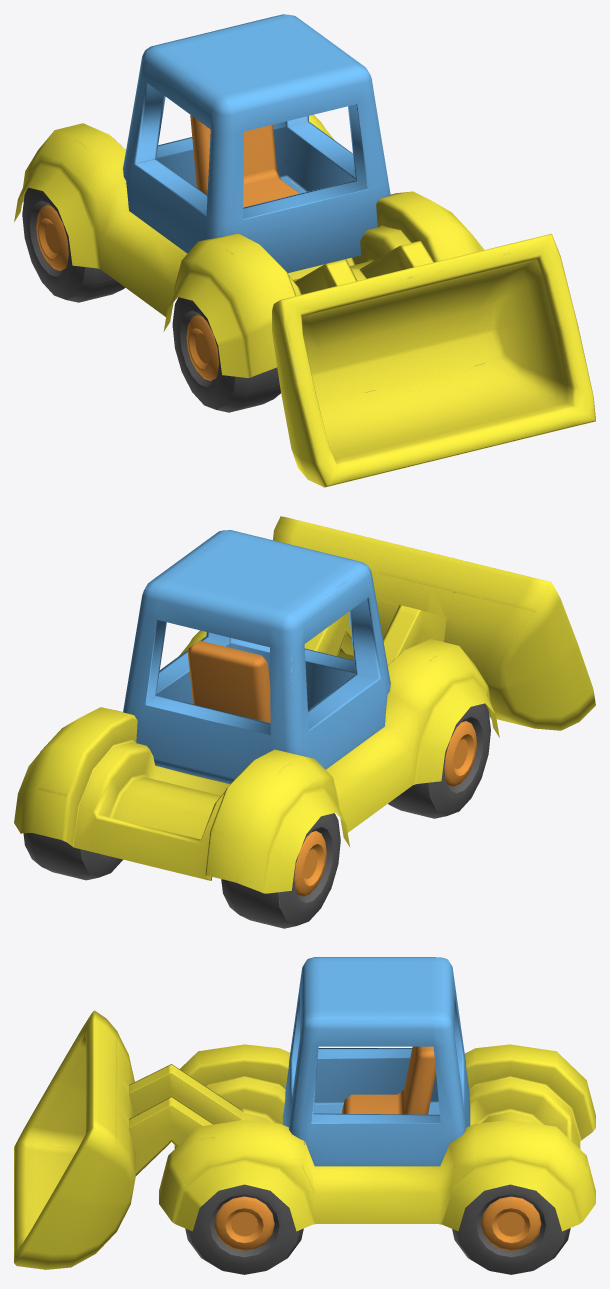
The model's file is bulldozer.fbx.
3 renders of one model, top to bottom at view 1: azimuth 30°, elevation 25°; view 2: azimuth 150°, elevation 25°; view 3: azimuth 270°, elevation 25°, orthographic. The views are drawn at different scales.
Visible parts, largest first — view 1: polySurface1, polySurface2, polySurface9, polySurface3; view 2: polySurface1, polySurface2, polySurface9, polySurface3; view 3: polySurface1, polySurface2, polySurface9, polySurface3.
Part boxes in pixels (<box>): polySurface1: <box>14,114,595,487</box>; polySurface2: <box>123,14,390,272</box>; polySurface9: <box>22,187,280,412</box>; polySurface3: <box>190,115,299,207</box>; polySurface1: <box>14,516,595,893</box>; polySurface2: <box>123,530,390,783</box>; polySurface9: <box>23,703,490,928</box>; polySurface3: <box>187,640,270,722</box>; polySurface1: <box>14,1010,595,1269</box>; polySurface2: <box>283,957,470,1166</box>; polySurface9: <box>185,1184,570,1274</box>; polySurface3: <box>342,1046,435,1114</box>.
Bounding box in the file's own units: 3.29 × 3.01 × 6.67.
